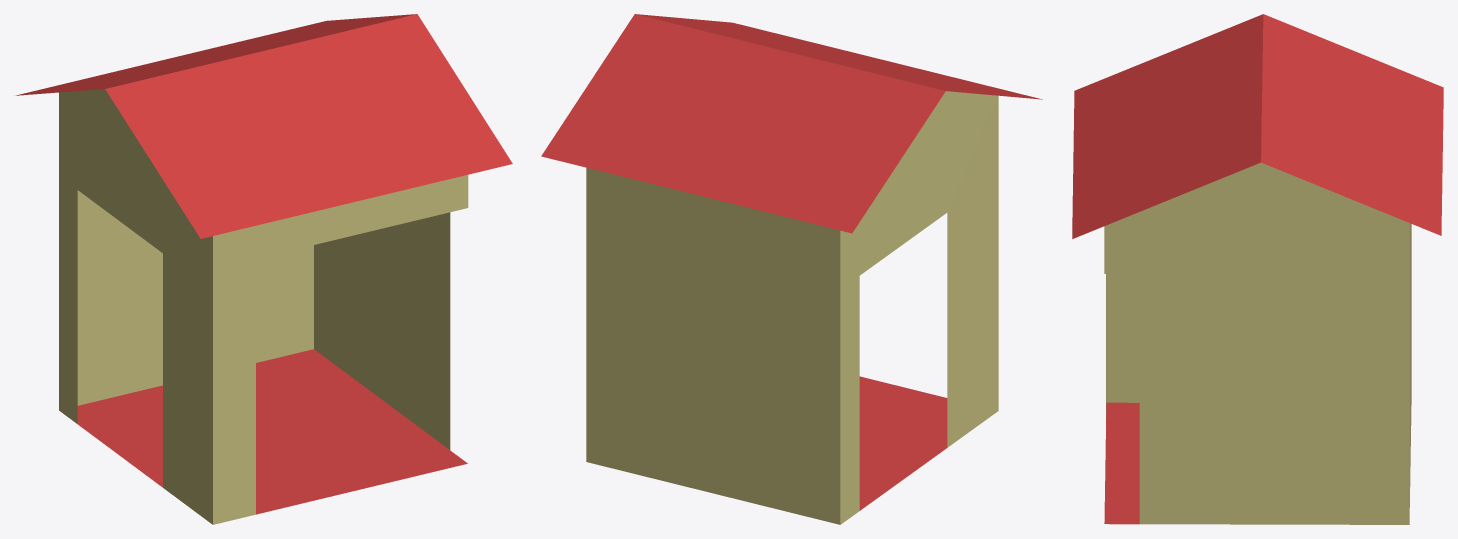
The picture shows the model from 3 angles, left to right: view 1: azimuth 30°, elevation 25°; view 2: azimuth 150°, elevation 25°; view 3: azimuth 270°, elevation 25°; orthographic projection. The views are drawn at different scales.
Size of the model in its own units: 8.26 by 8.67 by 9.67.
